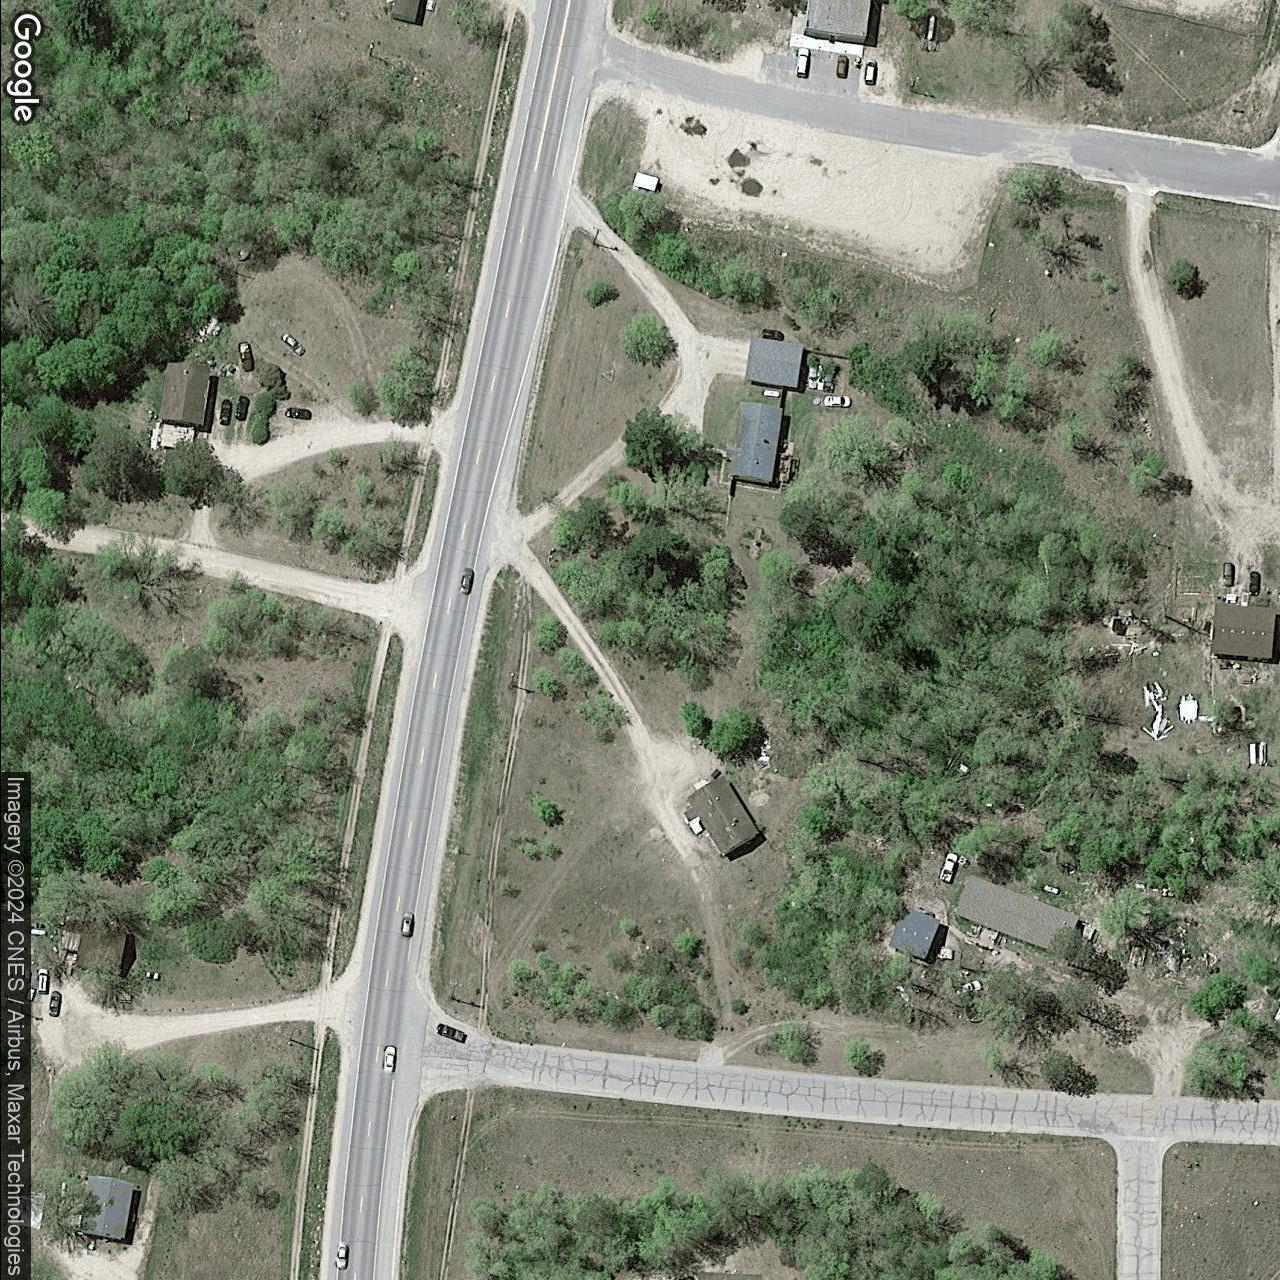Garage: (743, 333, 804, 389), (73, 920, 128, 979), (886, 904, 941, 960)
House: (952, 872, 1081, 956), (685, 774, 758, 859), (728, 399, 785, 485), (155, 360, 211, 429), (1211, 601, 1275, 661), (77, 1173, 134, 1240), (801, 0, 871, 46), (388, 0, 421, 25)
Propane: (922, 11, 939, 43), (1257, 740, 1268, 768), (1040, 883, 1062, 897), (761, 388, 781, 400), (29, 927, 46, 937)
